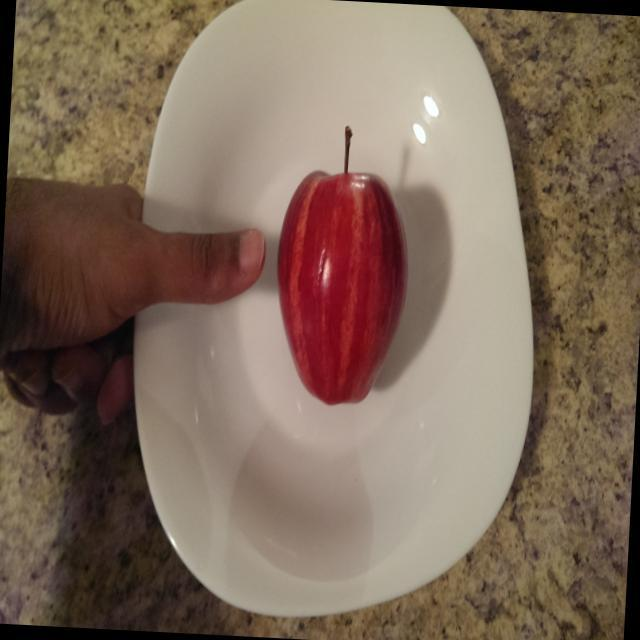Apple: (266, 116, 420, 421)
Finger: (176, 222, 270, 312)
